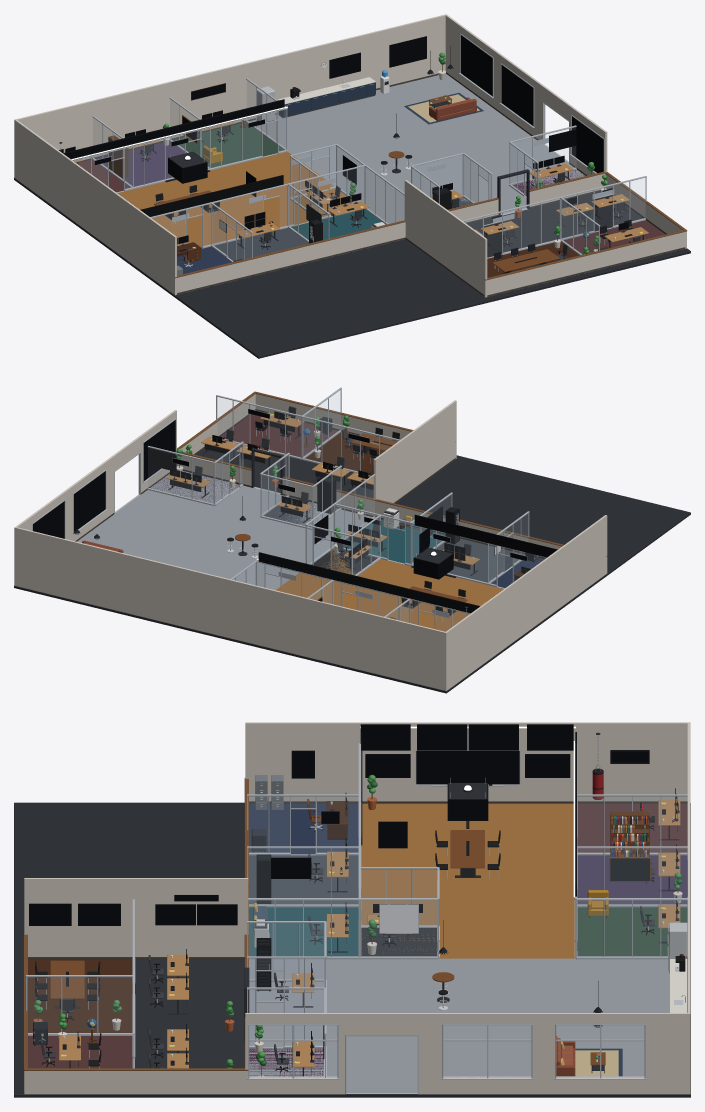
Rendered from office.glb.
3 views of the same model, one above another, from view 1: azimuth 30°, elevation 25°; view 2: azimuth 150°, elevation 25°; view 3: azimuth 270°, elevation 25° (orthographic). The views are drawn at different scales.
Visible parts, largest first — view 1: geo_slab, lounge, ext_north, ext_west, bullpen, ext_south, front_back_row, ext_east, inv_west, inv_south, invest_floor, inv_board_north (+38 smaller); view 2: ext_north, geo_slab, lounge, ext_west, bullpen, inv_west, ext_east, ext_south, front_back_row, front_front_row, inv_chair_north, goal_north (+28 smaller); view 3: lounge, bullpen, geo_slab, ext_west, ext_east, inv_west, invest_floor, part_gemma_lounge, inv_east, inv_board_chair, part_nova_gemma, part_vince_alcove (+52 smaller).
Boxes of the visible parts, x1,y1,x2,y2 form: geo_slab: [14, 177, 690, 358]; lounge: [249, 74, 585, 223]; ext_north: [14, 14, 445, 177]; ext_west: [14, 119, 176, 294]; bullpen: [117, 151, 349, 247]; ext_south: [174, 171, 605, 295]; front_back_row: [73, 108, 287, 192]; ext_east: [445, 14, 607, 175]; inv_west: [404, 180, 487, 296]; inv_south: [484, 230, 686, 297]; invest_floor: [467, 191, 643, 257]; inv_board_north: [462, 197, 560, 258]; ext_north: [14, 527, 447, 690]; geo_slab: [14, 455, 690, 693]; lounge: [77, 471, 371, 590]; ext_west: [444, 515, 607, 690]; bullpen: [276, 548, 503, 631]; inv_west: [373, 400, 456, 503]; ext_east: [14, 410, 176, 585]; ext_south: [176, 451, 607, 573]; front_back_row: [256, 560, 470, 630]; front_front_row: [411, 522, 544, 588]; inv_chair_north: [216, 395, 302, 459]; goal_north: [147, 446, 214, 505]; lounge: [249, 958, 669, 1092]; bullpen: [361, 803, 574, 958]; geo_slab: [14, 802, 690, 1097]; ext_west: [245, 722, 687, 803]; ext_east: [245, 1013, 690, 1094]; inv_west: [24, 878, 248, 959]; invest_floor: [135, 959, 244, 1068]; part_gemma_lounge: [576, 898, 687, 959]; inv_east: [24, 1068, 248, 1094]; inv_board_chair: [25, 975, 133, 1035]; part_nova_gemma: [577, 846, 687, 907]; part_vince_alcove: [247, 846, 359, 907].
Size of the model in its own units: 28.16 by 3.76 by 27.56.
